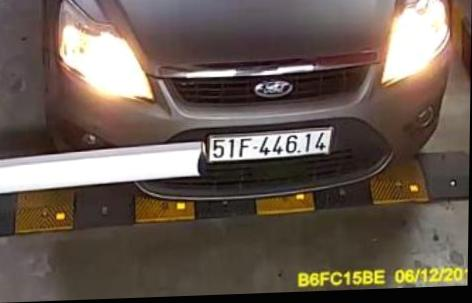License_Plate: (208, 124, 338, 167)
